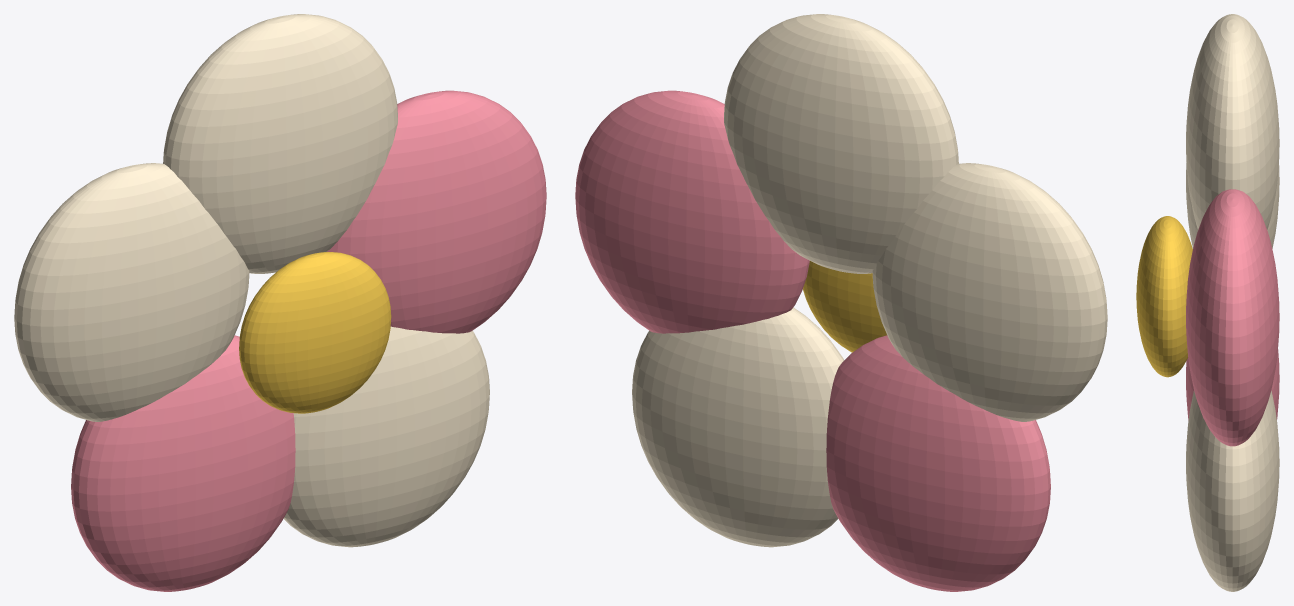
File: flower_pin.glb
The picture shows the model from 3 angles, left to right: view 1: azimuth 30°, elevation 25°; view 2: azimuth 150°, elevation 25°; view 3: azimuth 270°, elevation 25°; orthographic projection. The views are drawn at different scales.
Parts seen in each view (by area): view 1: flower_petal.029, flower_petal.025, flower_petal.028, flower_petal.026, flower_petal.027, flower_center.005; view 2: flower_petal.029, flower_petal.025, flower_petal.028, flower_petal.026, flower_petal.027, flower_center.005; view 3: flower_petal.026, flower_petal.025, flower_petal.027, flower_center.005, flower_petal.029, flower_petal.028.
Part boxes in pixels (x1,y1,x2,y2): flower_petal.029: [14, 163, 249, 421]; flower_petal.025: [163, 14, 397, 273]; flower_petal.028: [71, 335, 295, 591]; flower_petal.026: [327, 90, 546, 333]; flower_petal.027: [283, 326, 489, 547]; flower_center.005: [239, 252, 391, 413]; flower_petal.029: [872, 163, 1107, 421]; flower_petal.025: [724, 14, 958, 273]; flower_petal.028: [826, 335, 1050, 591]; flower_petal.026: [575, 90, 809, 333]; flower_petal.027: [632, 307, 844, 547]; flower_center.005: [803, 261, 886, 352]; flower_petal.026: [1186, 189, 1279, 446]; flower_petal.025: [1186, 14, 1279, 229]; flower_petal.027: [1186, 390, 1279, 591]; flower_center.005: [1136, 216, 1192, 377]; flower_petal.029: [1186, 162, 1279, 248]; flower_petal.028: [1186, 349, 1279, 420].
Bounding box in the file's own units: 0.2196 × 0.2176 × 0.055.
